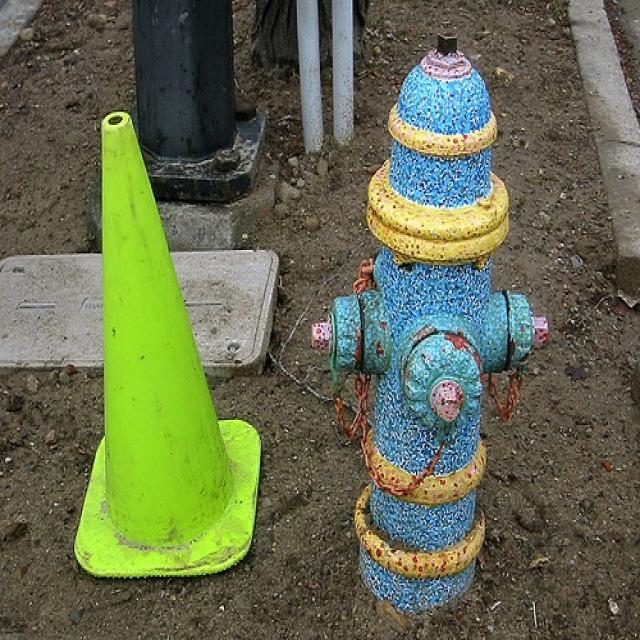fire_hydrant: (311, 31, 549, 606)
reflective_cone: (74, 111, 266, 572)
